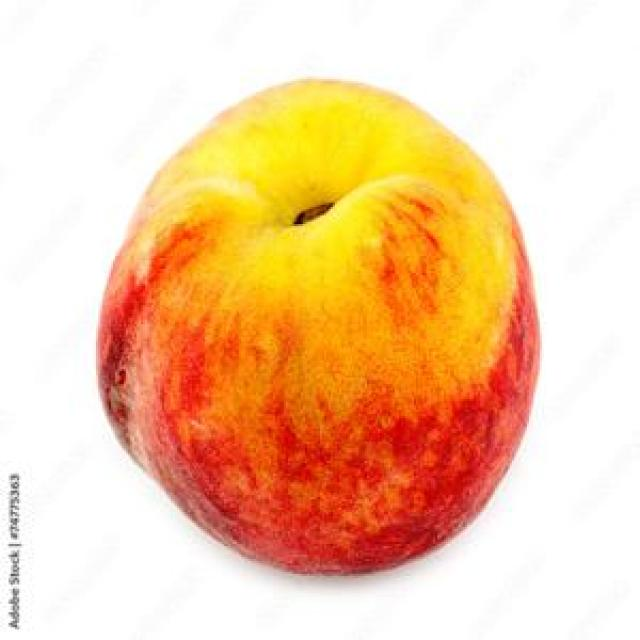peach: (100, 80, 538, 572)
